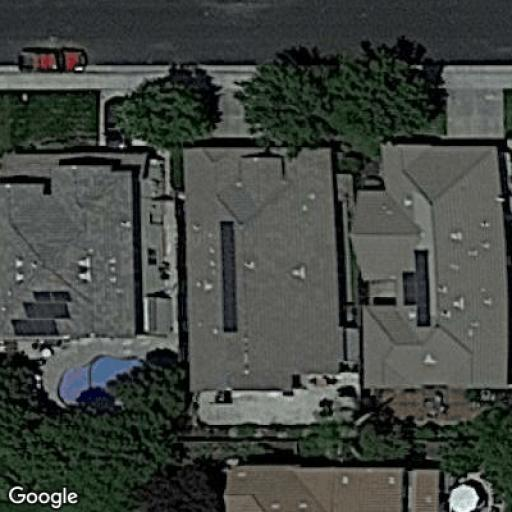solar-panel: (12, 288, 74, 338), (219, 218, 241, 334), (404, 249, 434, 327)
